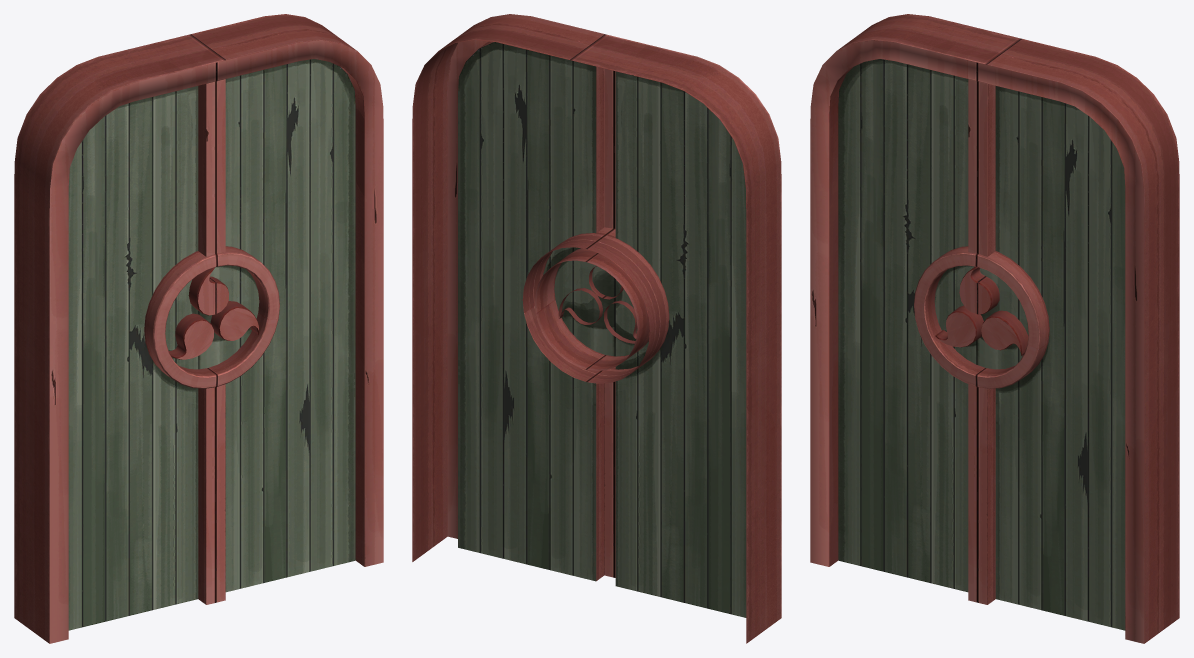
Rendered from SM_ENV_KNFRST_Gate_A.FBX.
3 renders of one model, left to right at view 1: azimuth 30°, elevation 25°; view 2: azimuth 150°, elevation 25°; view 3: azimuth 330°, elevation 25°, orthographic.
Visible parts, largest first — view 1: SM_ENV_KNFRST_Gate_A; view 2: SM_ENV_KNFRST_Gate_A; view 3: SM_ENV_KNFRST_Gate_A.
Boxes of the visible parts, box(x1,y1,x2,y2) form: SM_ENV_KNFRST_Gate_A: box(14, 14, 383, 643); SM_ENV_KNFRST_Gate_A: box(412, 14, 781, 643); SM_ENV_KNFRST_Gate_A: box(810, 14, 1179, 643).
Bounding box in the file's own units: 518 × 802 × 97.19.
